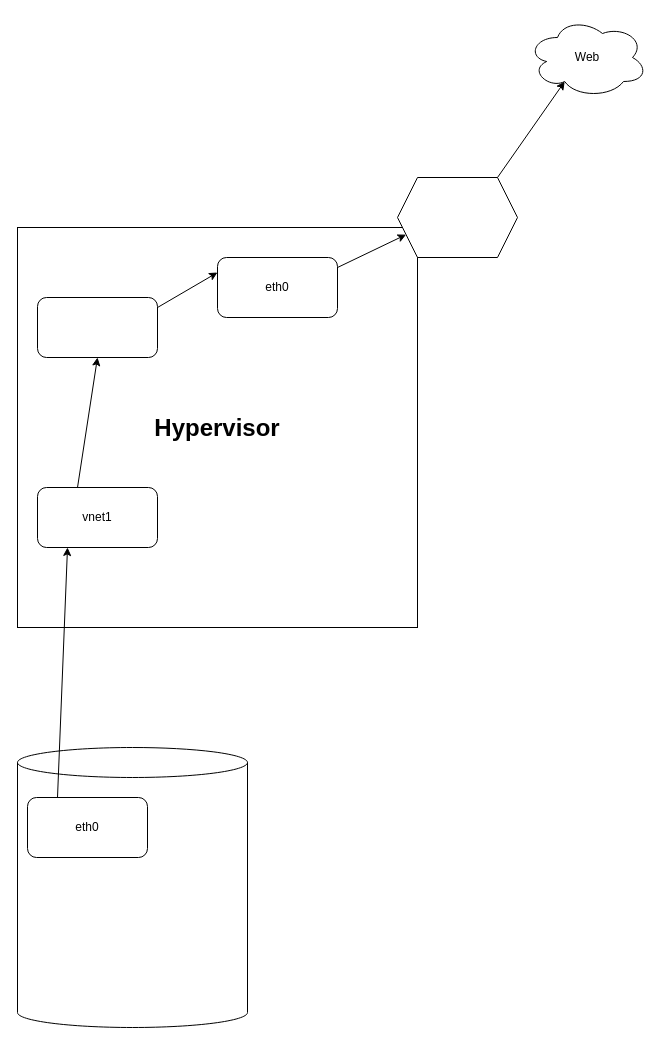
The diagram is 665 pixels wide and 1045 high, and some of its shapes have lost their labels. Each missing label, with the box of its shape:
Fiziksel Network Adaptoru: (396, 176, 518, 258)
virbr0: (36, 296, 158, 358)
Vm1: (16, 746, 248, 1028)
